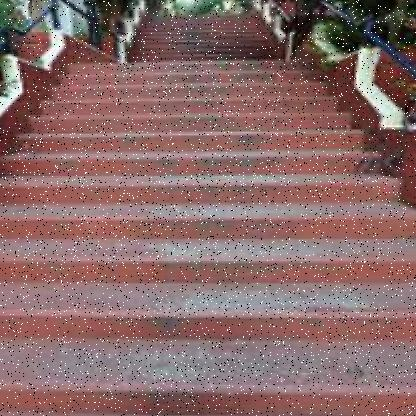stair_up: (0, 139, 405, 416)
